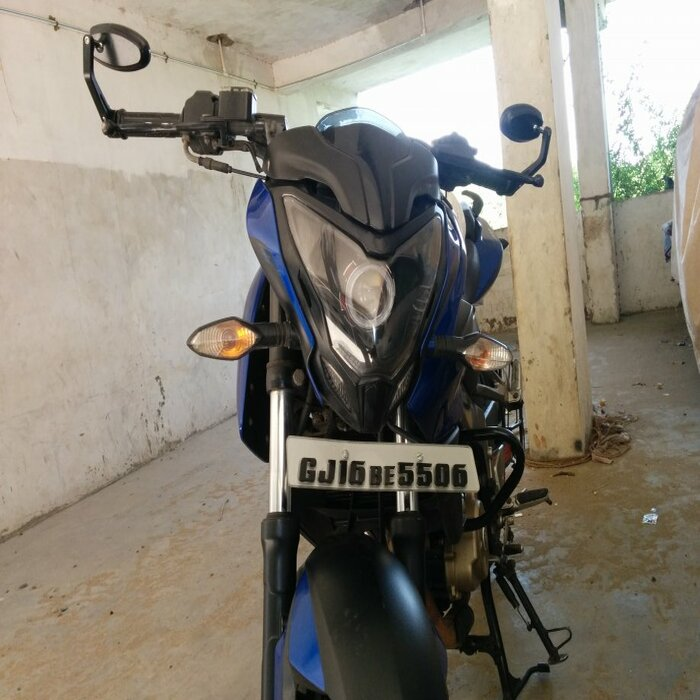n: (283, 438, 483, 503)
